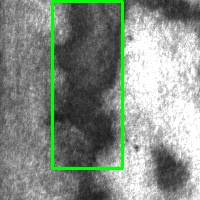patches: (52, 1, 122, 168)
